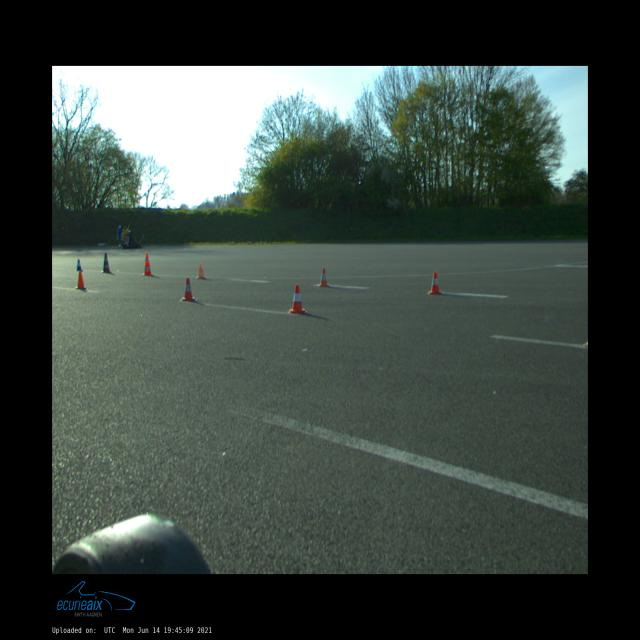blue_cone: (75, 259, 83, 271)
large_orange_cone: (142, 253, 153, 276), (102, 253, 111, 273)
orange_cone: (288, 285, 308, 314), (180, 278, 197, 302), (427, 272, 441, 295), (75, 271, 87, 290), (319, 268, 329, 287), (197, 264, 206, 280)
